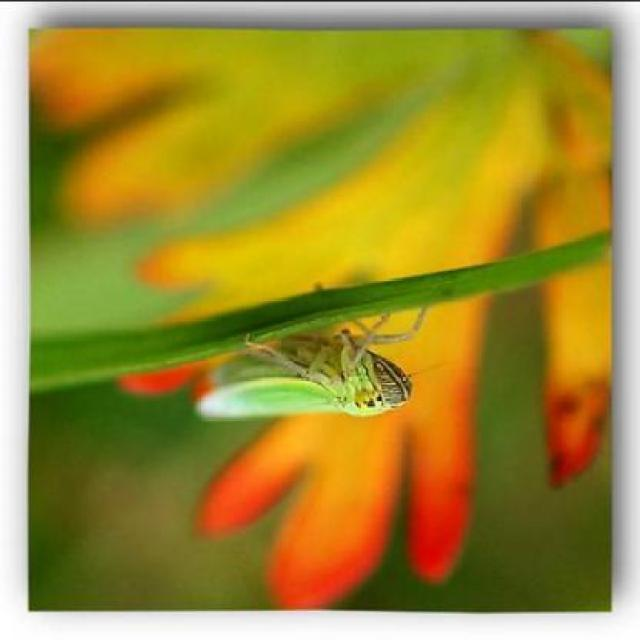green-leafhopper: (186, 310, 425, 428)
